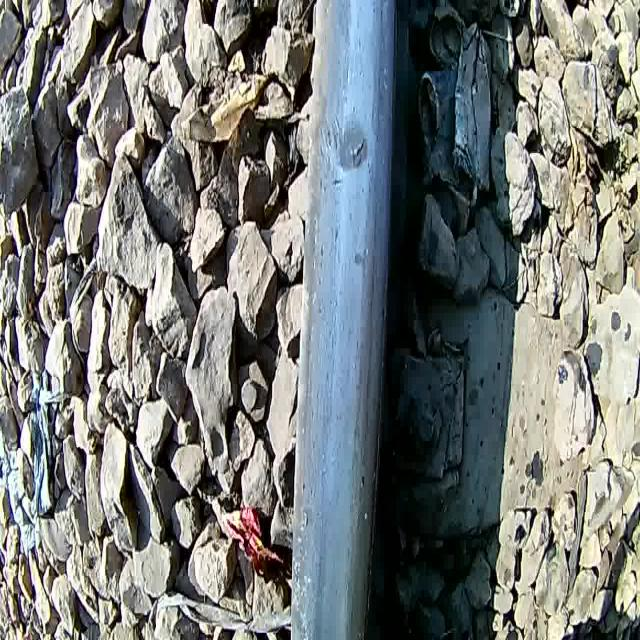Squats: (272, 0, 416, 640)
